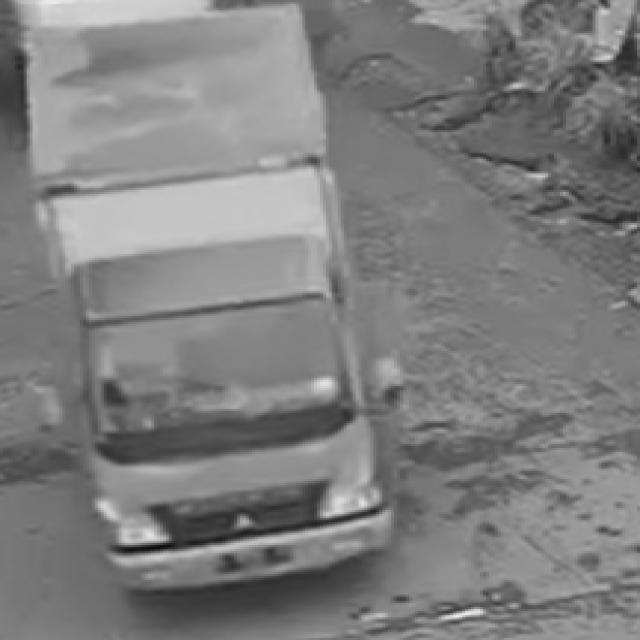Truck: (9, 20, 445, 602)
